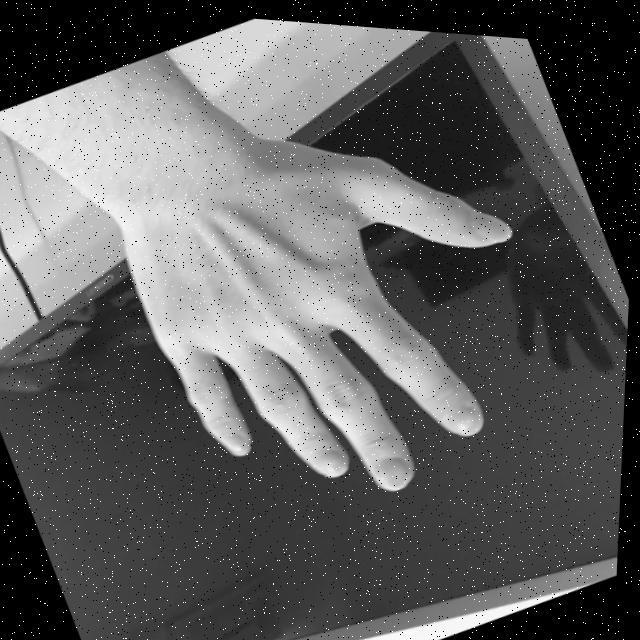no-gloves: (88, 52, 604, 575)
